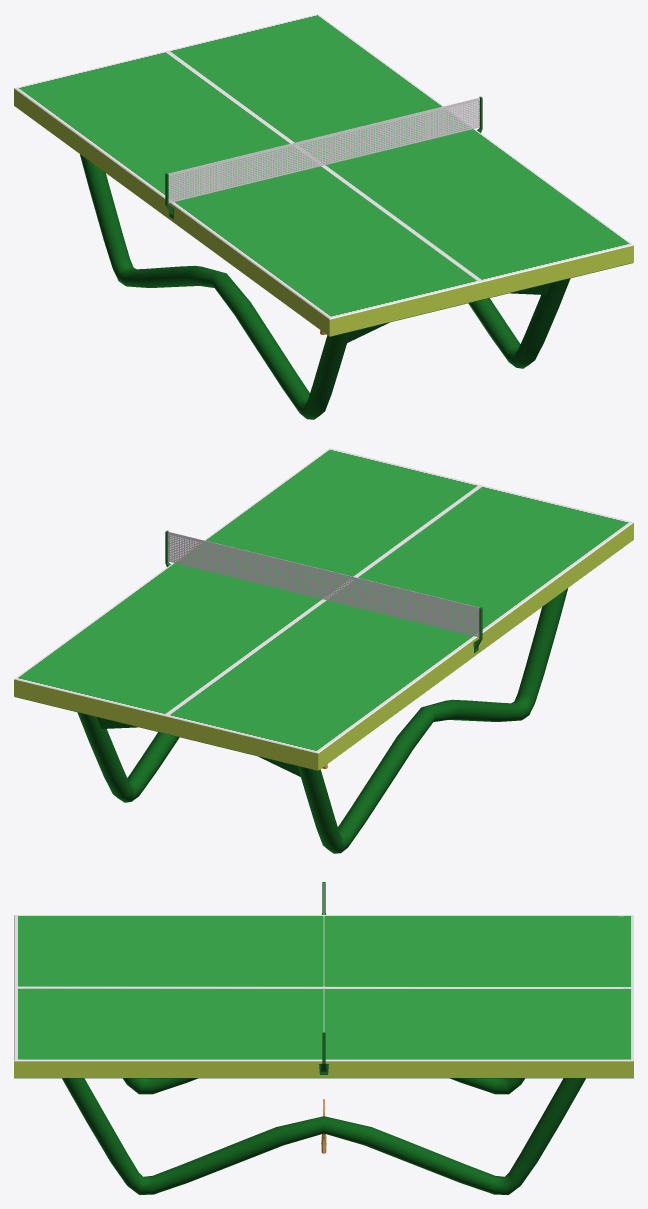
File: PingPongSet.fbx
3 renders of one model, top to bottom at view 1: azimuth 30°, elevation 25°; view 2: azimuth 150°, elevation 25°; view 3: azimuth 270°, elevation 25°, orthographic.
Visible parts, largest first — view 1: PingPongTable; view 2: PingPongTable; view 3: PingPongTable.
Part boxes in pixels (x1=…): PingPongTable: x1=14, y1=14, x2=633, y2=419; PingPongTable: x1=14, y1=448, x2=633, y2=853; PingPongTable: x1=14, y1=882, x2=633, y2=1194.
Size of the model in its own units: 1.58 by 0.9498 by 2.74.
